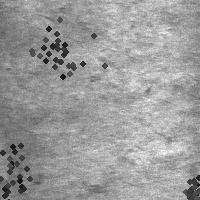rolled-in_scale: (12, 4, 98, 90), (0, 129, 57, 200), (81, 32, 137, 104), (170, 170, 200, 200)
